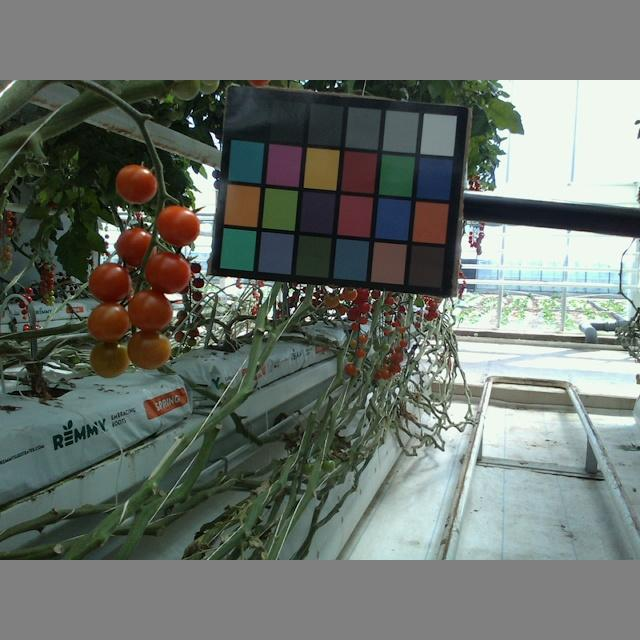pink: (159, 202, 201, 245), (128, 293, 173, 332), (90, 302, 131, 342), (128, 332, 171, 370), (148, 251, 190, 289), (117, 165, 157, 203), (113, 230, 156, 264), (87, 346, 130, 379), (92, 263, 130, 297)
